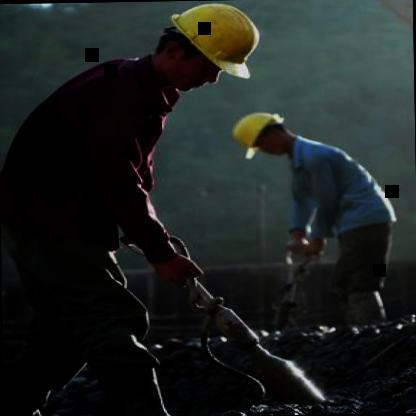helmet: (136, 0, 268, 99), (228, 107, 294, 156)
